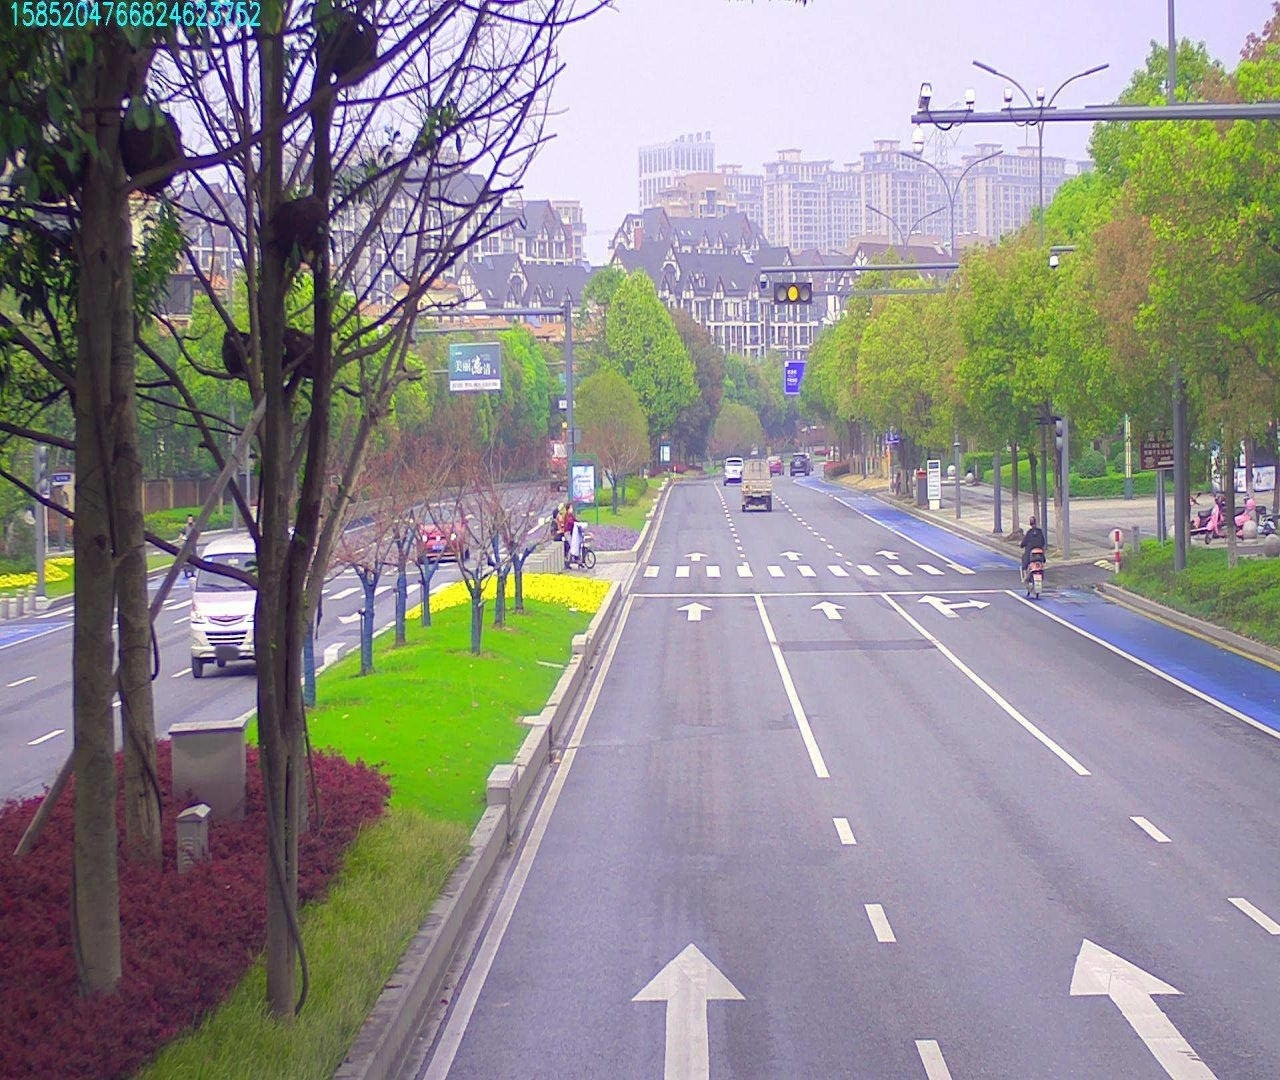yellow: (775, 284, 812, 307)
